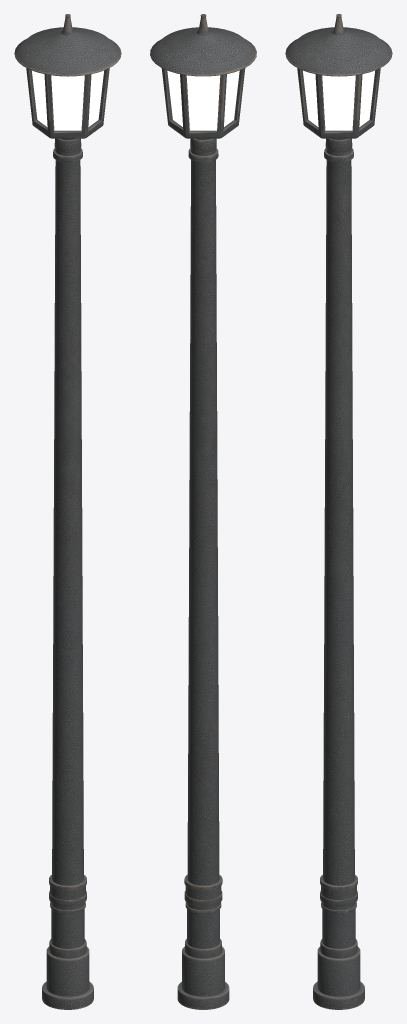
The model's file is Lightpost.fbx.
3 renders of one model, left to right at view 1: azimuth 90°, elevation 25°; view 2: azimuth 150°, elevation 25°; view 3: azimuth 270°, elevation 25°, orthographic.
Parts seen in each view (by area): view 1: Lightpost; view 2: Lightpost; view 3: Lightpost.
Part boxes in pixels (x1,y1,x2,y2): Lightpost: [14, 14, 121, 1009]; Lightpost: [150, 14, 256, 1009]; Lightpost: [285, 14, 392, 1009].
Bounding box in the file's own units: 1.02 × 10.33 × 1.02.
